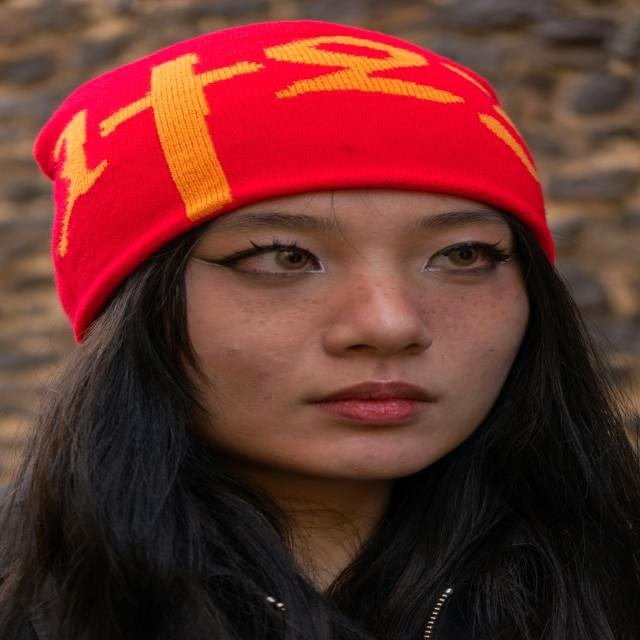no_hard_hat: (35, 21, 555, 343)
person: (2, 21, 638, 640)
